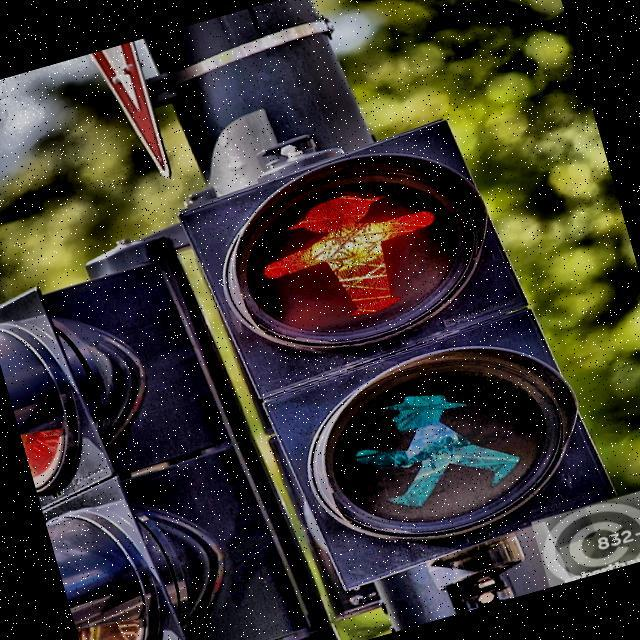red_light: (244, 168, 458, 346)
